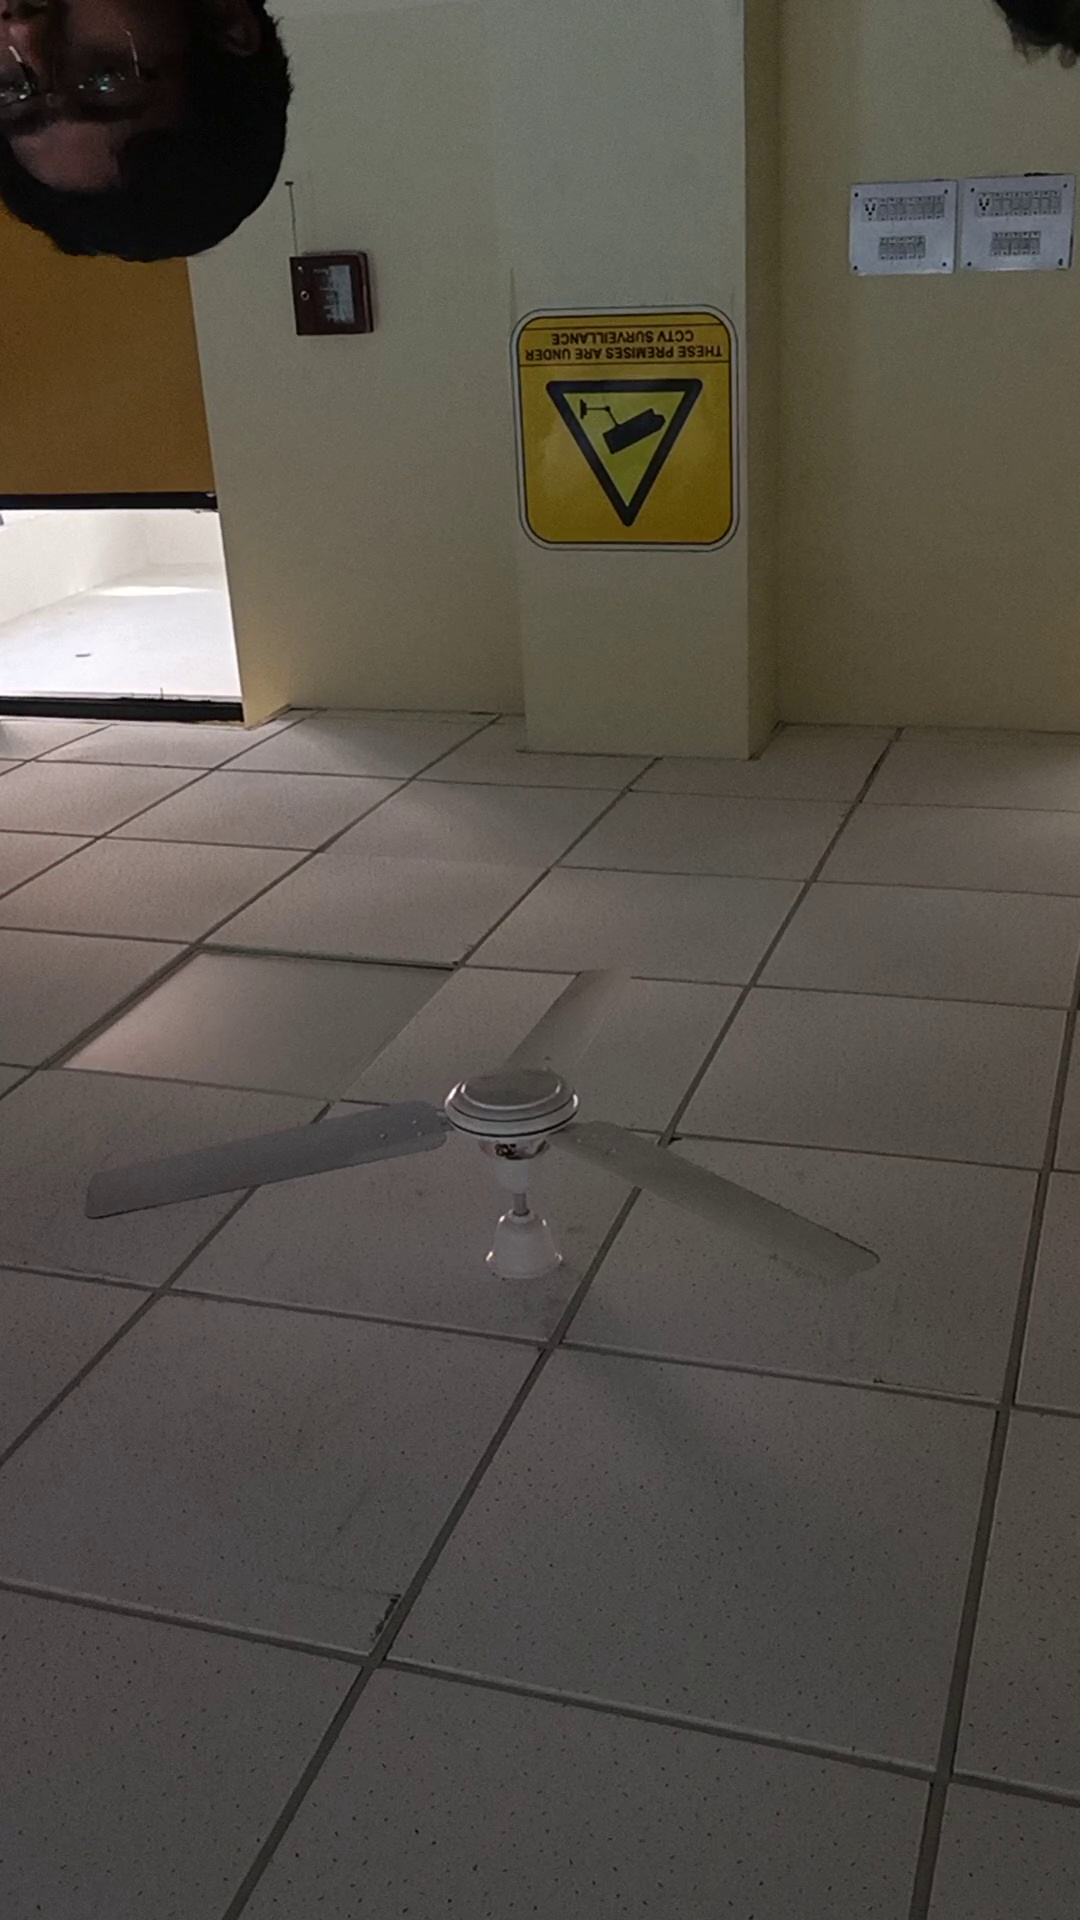fan: (82, 967, 934, 1366)
